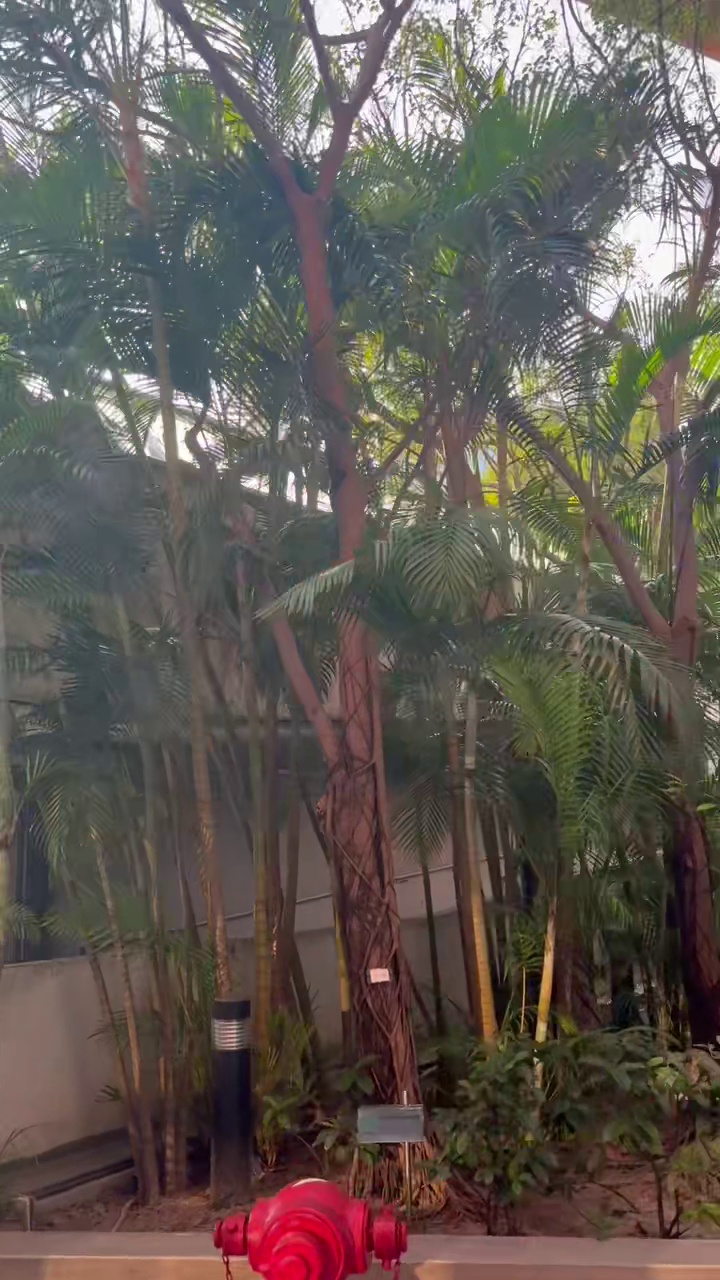Ficus benjamina: (167, 0, 419, 1102)
